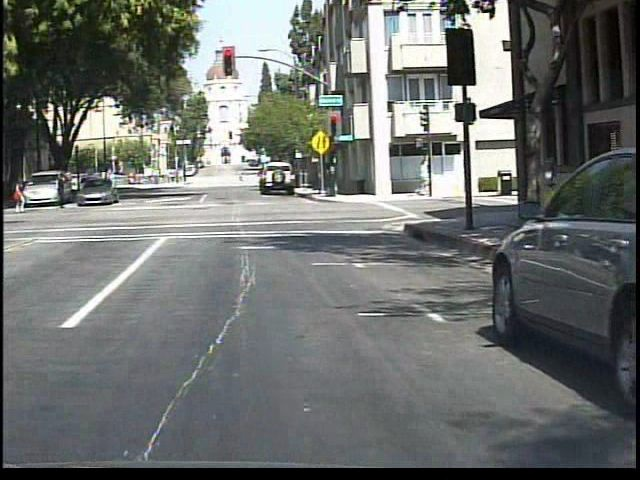person: (9, 176, 29, 215), (52, 170, 69, 212), (236, 170, 246, 187)
